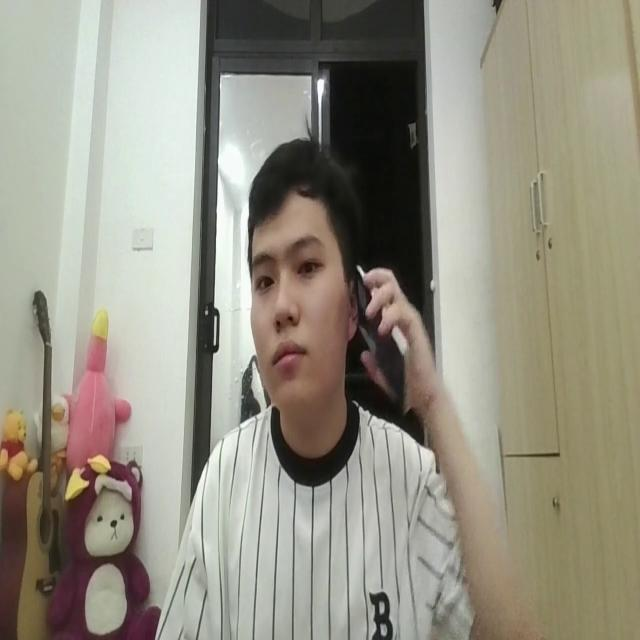phone: (352, 253, 414, 422)
student: (141, 138, 519, 640)
